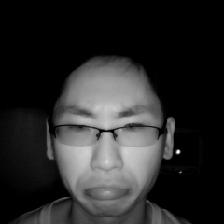sad: (36, 43, 185, 223)
